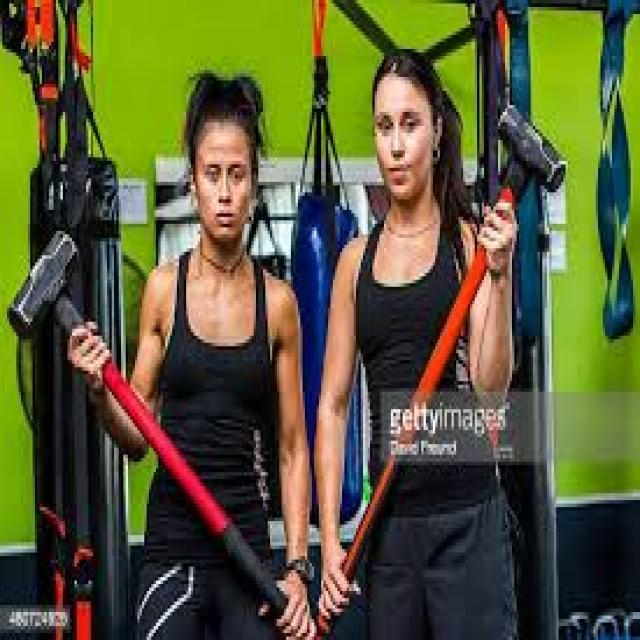hammer: (315, 100, 569, 628), (2, 226, 298, 624)
